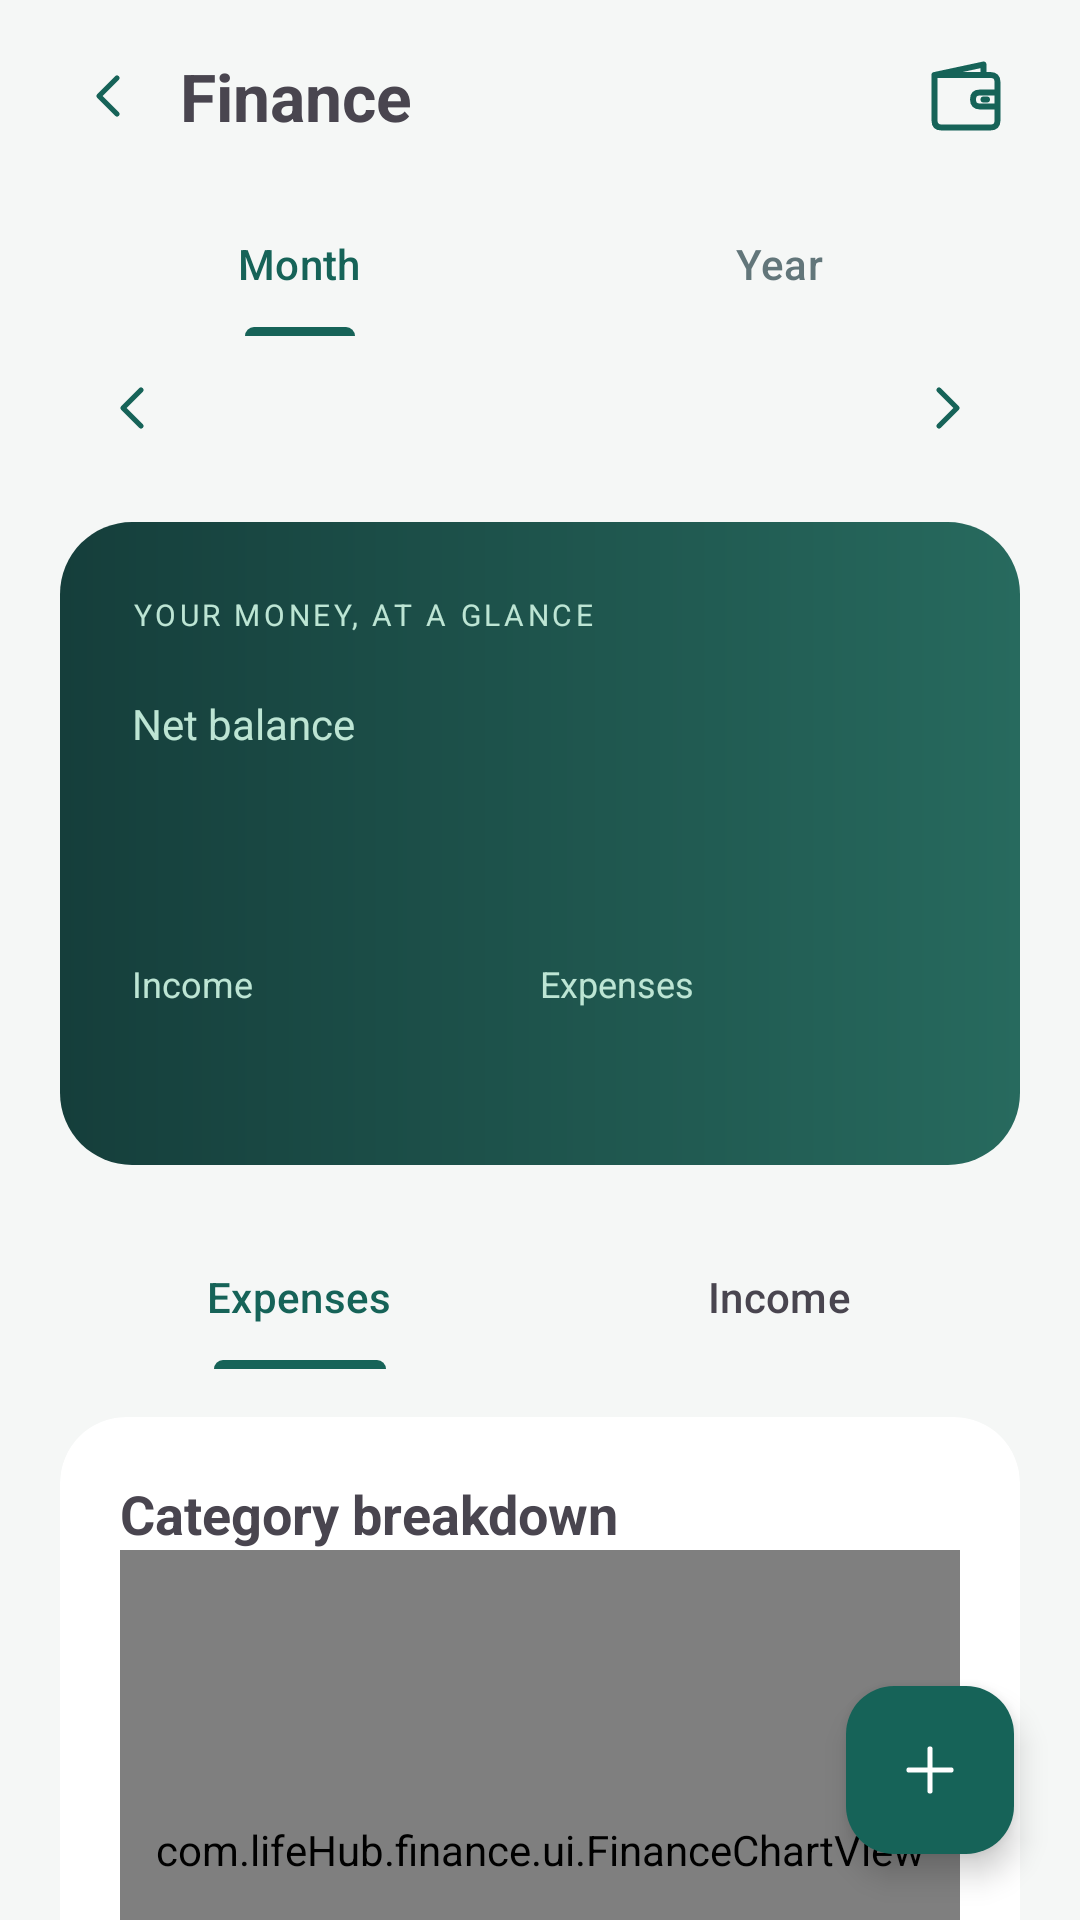

Icons on this 1080w x 1920h Android screen, each with the point to tap as (x=x, y=y):
Add record: (x=930, y=1770)
Back: (x=108, y=96)
Next period: (x=948, y=408)
Previous period: (x=132, y=408)
wallet: (x=966, y=96)
